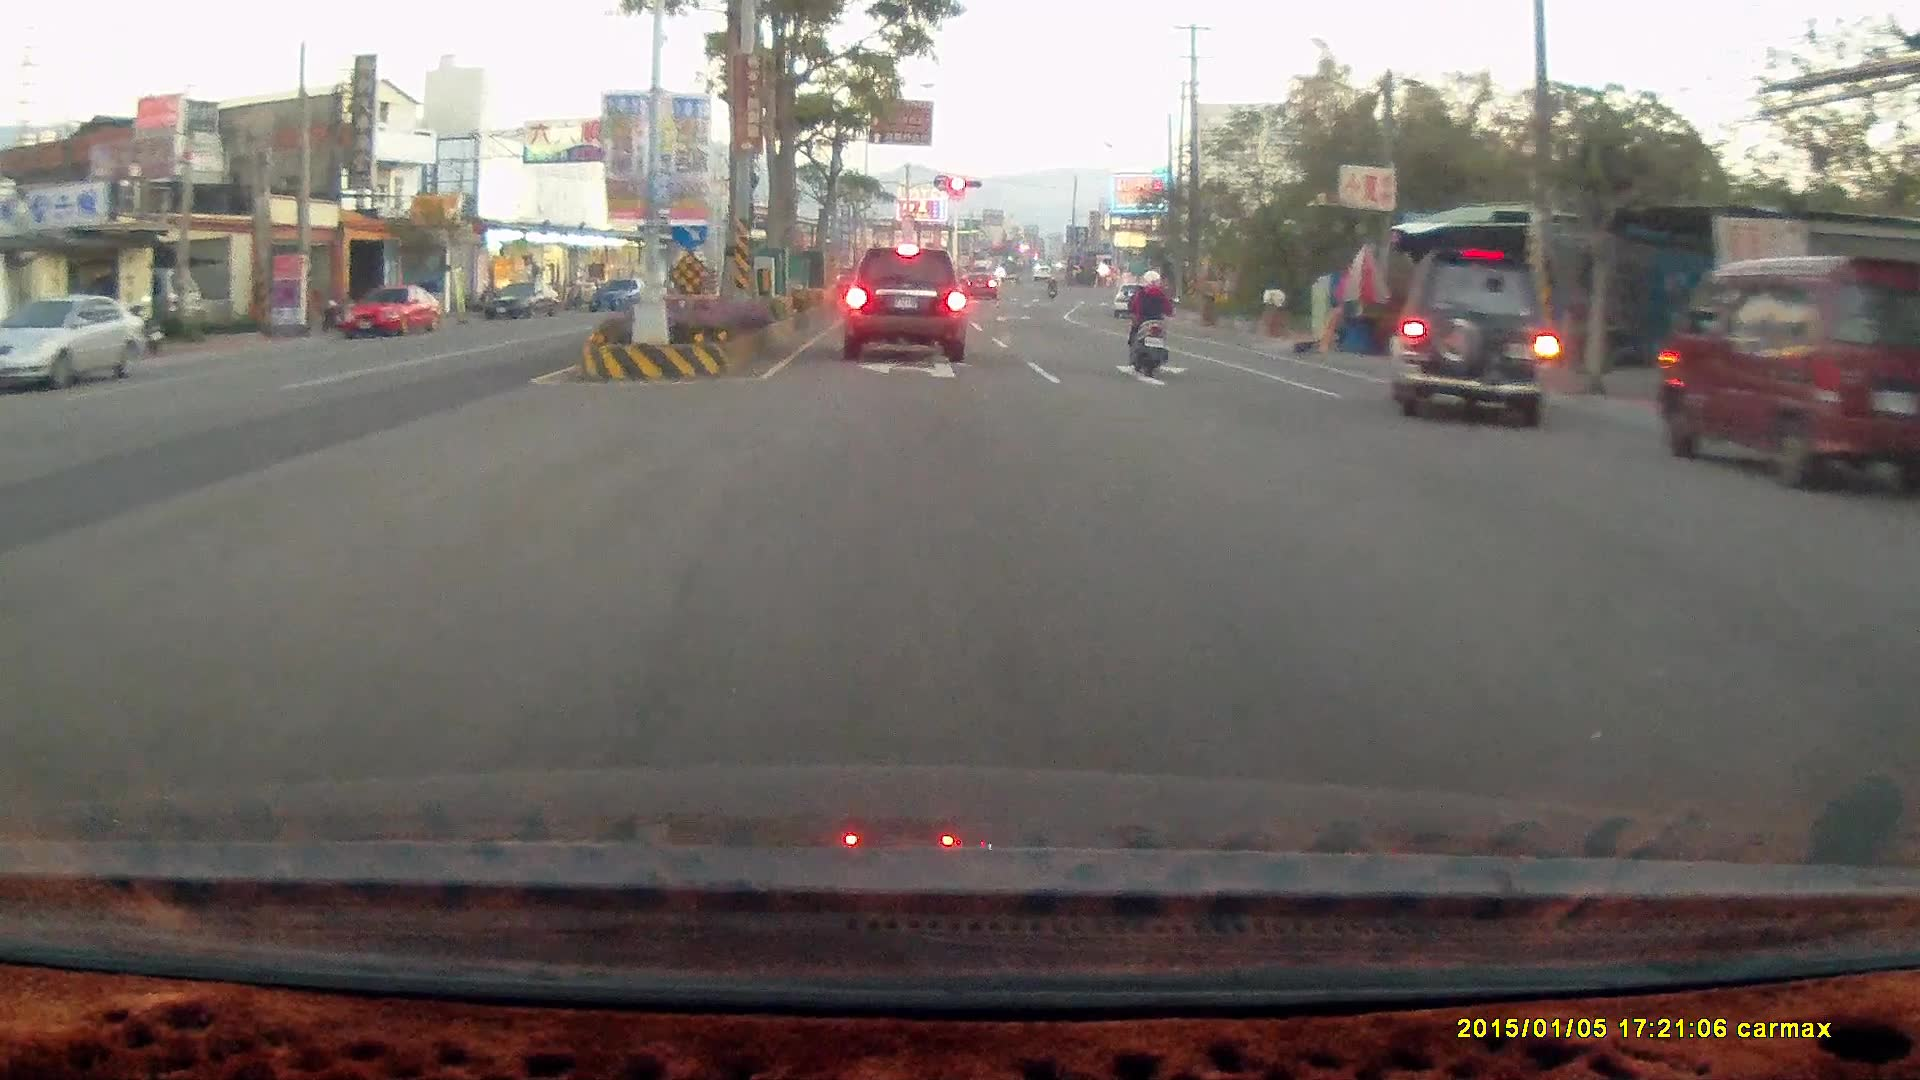rider: (1124, 267, 1174, 377)
vehicle: (1655, 252, 1920, 496), (1659, 260, 1920, 499), (1388, 254, 1562, 436), (1387, 249, 1556, 429), (1, 292, 154, 394), (0, 292, 152, 393), (841, 244, 967, 362), (1896, 493, 1920, 836), (1883, 528, 1920, 690), (344, 288, 448, 341), (343, 286, 439, 337), (1111, 285, 1160, 321)
